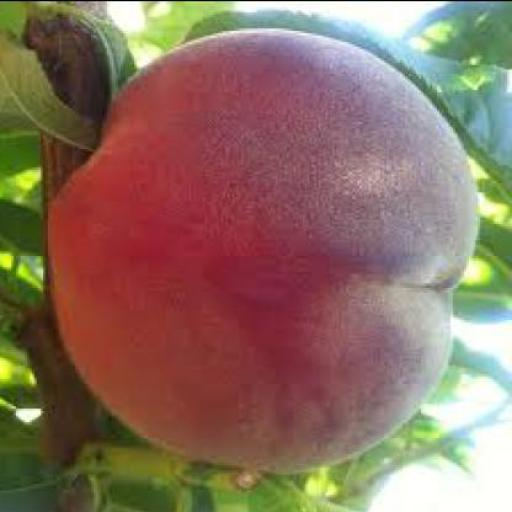biodegradable: (50, 23, 483, 468)
